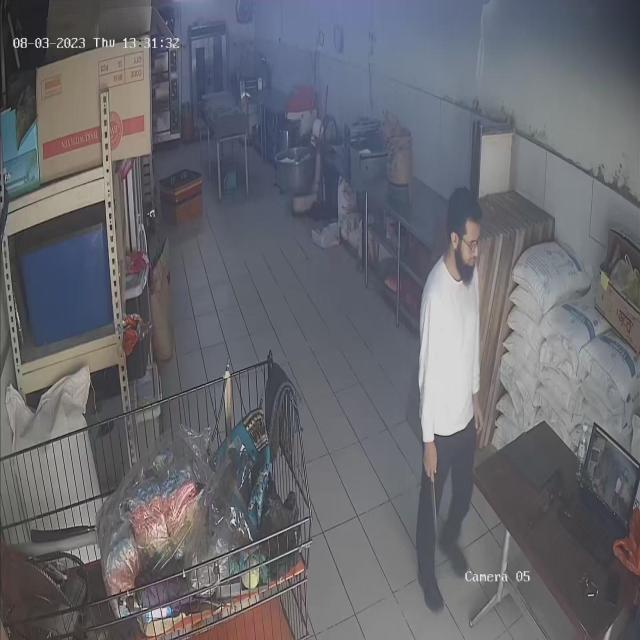Knife: (423, 464, 454, 557)
